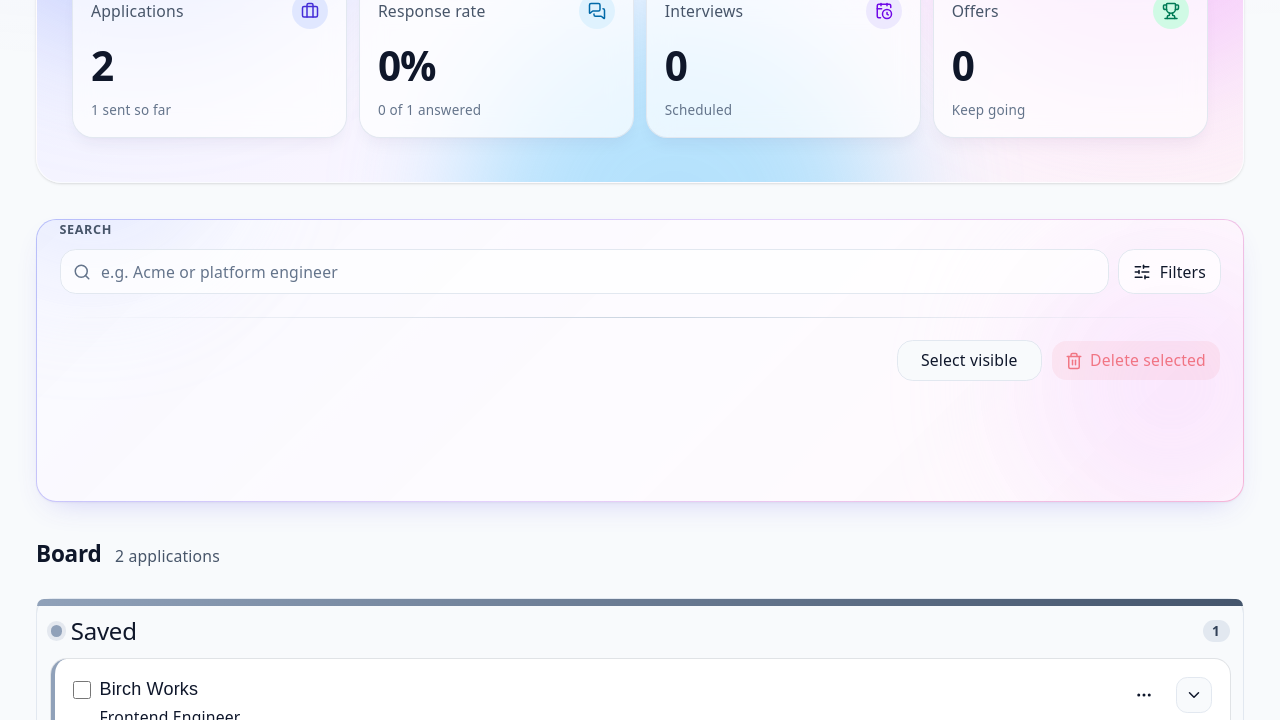
ApplicationsPage API integration › on mobile, "Select visible" only selects the column on screen
This screenshot has width=1280, height=720.
(page scrolled)
Expected: the text "Birch Works" is shown, [100,679,198,699]
Click the button "Select visible" at (969,361), box [897,340,1042,381]
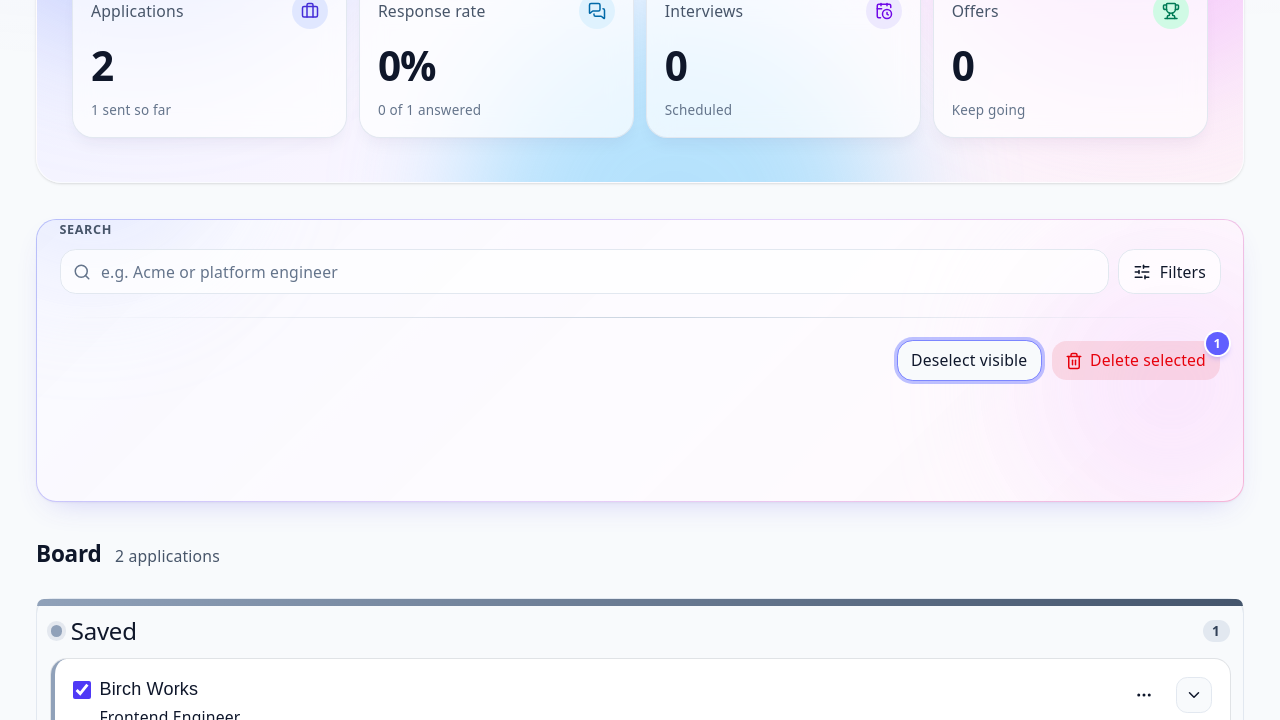
Expected: the checkbox named "Select Birch Works" is checked, [72,681,90,699]
